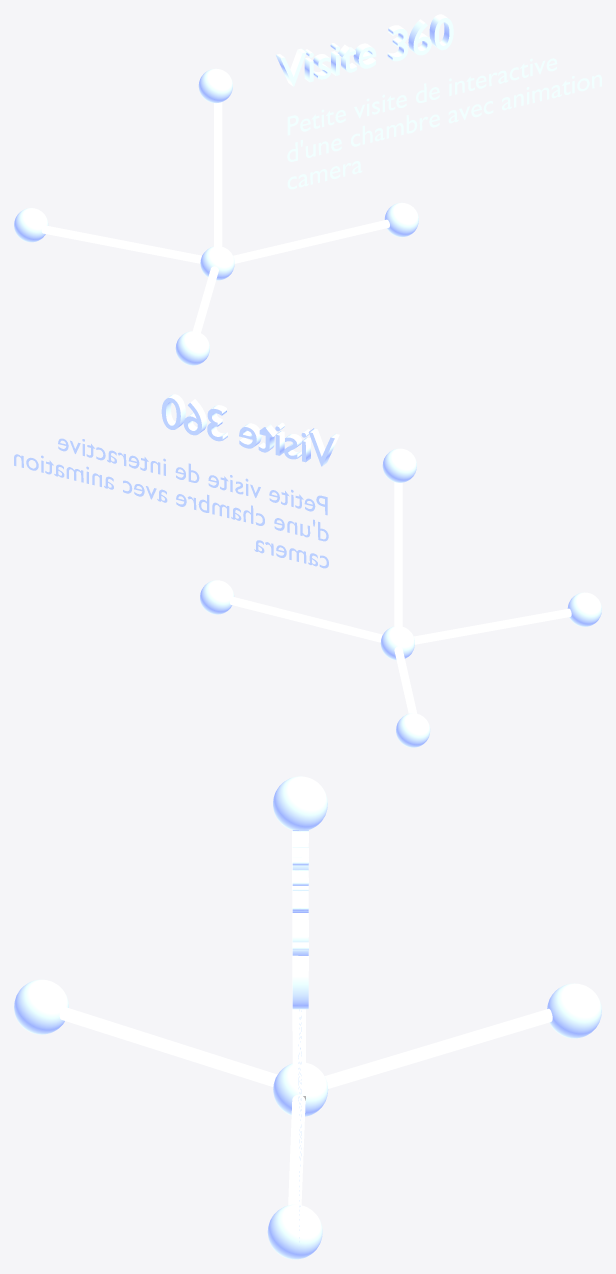
File: constellation_dice.glb
3 renders of one model, top to bottom at view 1: azimuth 30°, elevation 25°; view 2: azimuth 150°, elevation 25°; view 3: azimuth 270°, elevation 25°, orthographic. The views are drawn at different scales.
Visible parts, largest first — view 1: constellation_360, Texte.001, Texte, Cylindre, Cylindre.003; view 2: constellation_360, Texte.001, Texte, Cylindre.003, Cylindre; view 3: constellation_360, Cylindre, Texte, Cylindre.003.
Part boxes in pixels (x1,y1,x2,y2): constellation_360: (14, 68, 418, 365); Texte.001: (287, 58, 601, 189); Texte: (276, 14, 453, 86); Cylindre: (42, 225, 201, 263); Cylindre.003: (214, 102, 222, 250); constellation_360: (200, 448, 601, 747); Texte.001: (14, 438, 328, 568); Texte: (161, 394, 339, 466); Cylindre.003: (394, 482, 402, 629); Cylindre: (394, 646, 417, 713); constellation_360: (14, 776, 601, 1259); Cylindre: (324, 1008, 552, 1088); Texte: (292, 830, 308, 1009); Cylindre.003: (292, 830, 305, 1068).
Bounding box in the file's own units: 14.42 × 5.71 × 9.1.
